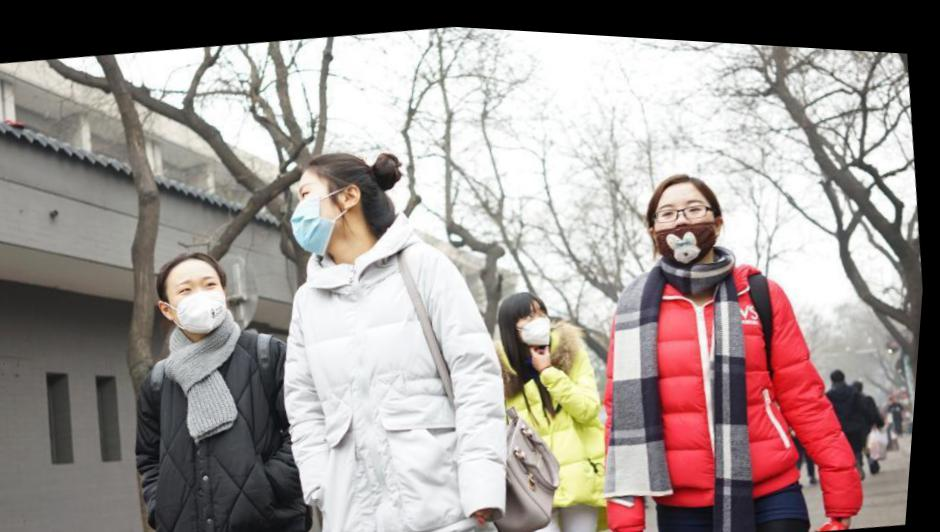OK: (285, 165, 360, 255), (166, 259, 241, 333), (514, 291, 564, 346)
WRONG: (648, 180, 731, 261)
